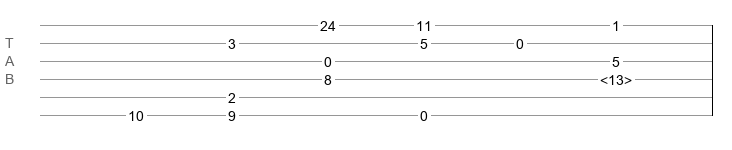0: (324, 54, 332, 64), (420, 108, 428, 118), (516, 36, 524, 46)
1: (612, 18, 620, 28)
10: (128, 108, 144, 118)
11: (416, 18, 432, 28)
2: (228, 90, 236, 100)
24: (320, 18, 336, 28)
3: (228, 36, 236, 46)
5: (420, 36, 428, 46), (612, 54, 620, 64)
8: (324, 72, 332, 82)
9: (228, 108, 236, 118)
harmonic: (600, 72, 632, 82)
